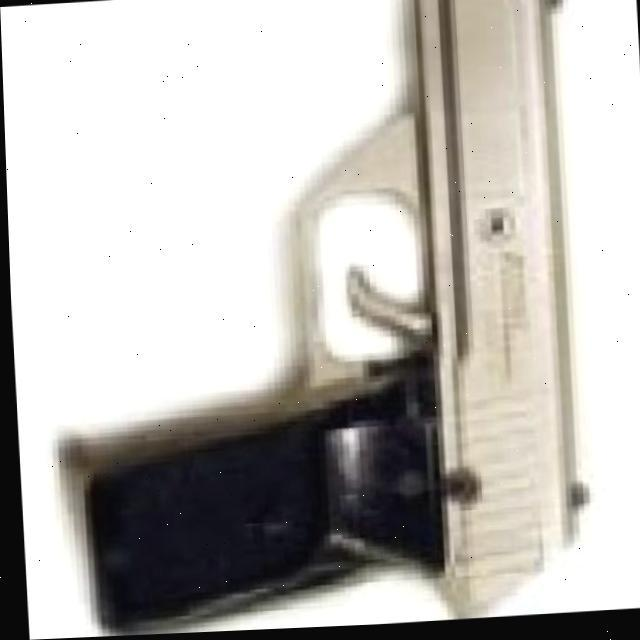gun: (33, 0, 597, 639)
